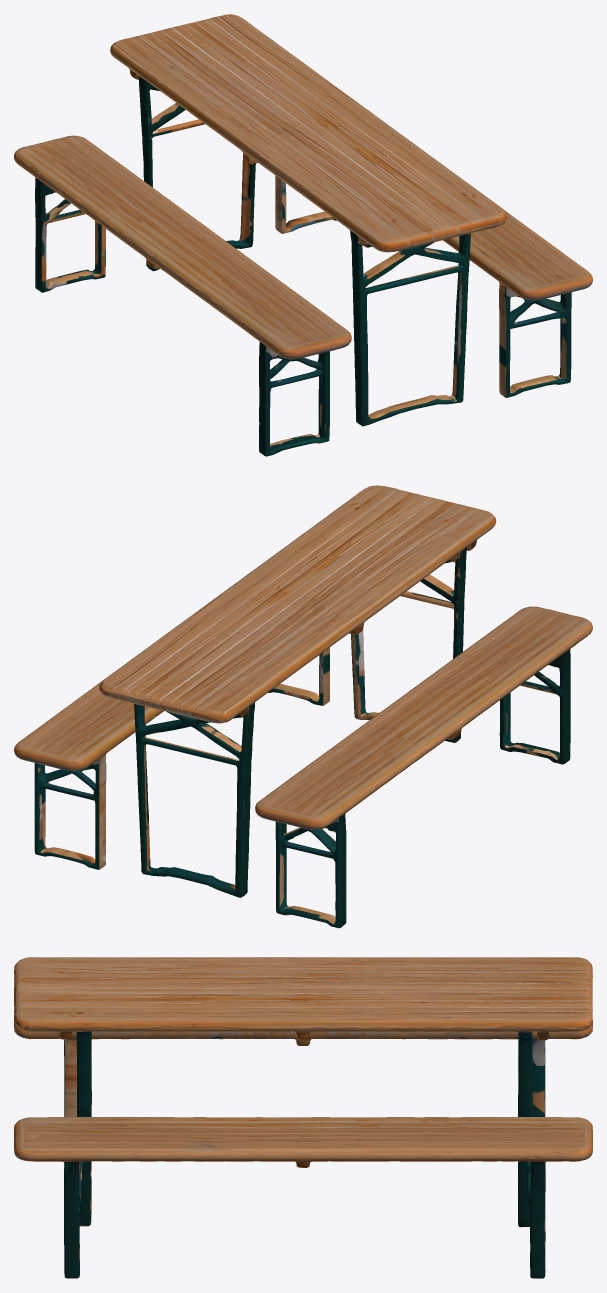
Rendered from table setup.glb.
The picture shows the model from 3 angles, top to bottom: view 1: azimuth 30°, elevation 25°; view 2: azimuth 150°, elevation 25°; view 3: azimuth 270°, elevation 25°; orthographic projection. The views are drawn at different scales.
Parts seen in each view (by area): view 1: textured_mesh; view 2: textured_mesh; view 3: textured_mesh.
Boxes of the visible parts, box(x1,y1,x2,y2) form: textured_mesh: box(14, 14, 592, 456); textured_mesh: box(14, 485, 592, 928); textured_mesh: box(14, 957, 592, 1278).
Bounding box in the file's own units: 1.3 × 0.8226 × 2.
1 material, 1 textured.
